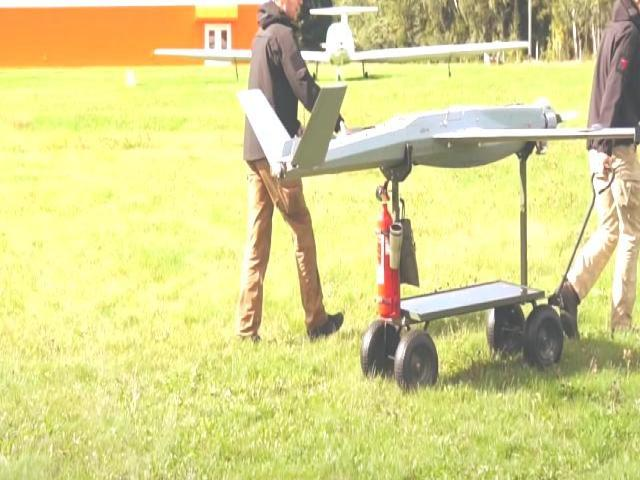iha: (151, 5, 534, 65)
